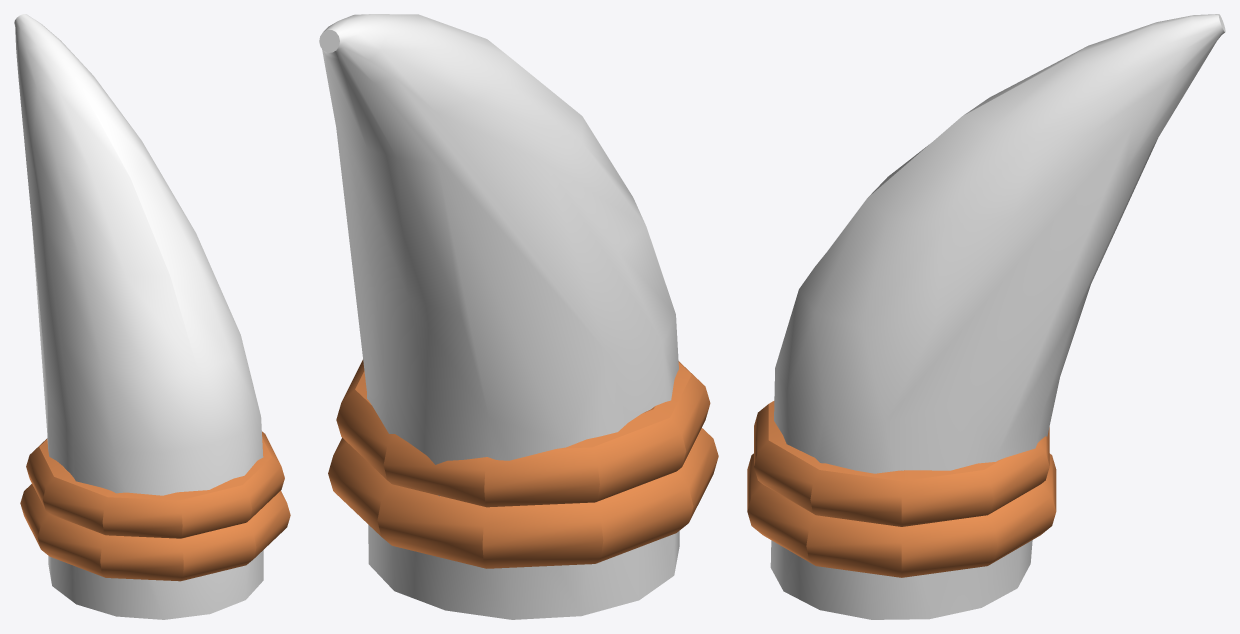
Rendered from Horn.fbx.
The picture shows the model from 3 angles, left to right: view 1: azimuth 30°, elevation 25°; view 2: azimuth 150°, elevation 25°; view 3: azimuth 270°, elevation 25°; orthographic projection. The views are drawn at different scales.
Parts seen in each view (by area): view 1: Horn; view 2: Horn; view 3: Horn.
Part boxes in pixels (bbox=[...]): Horn: bbox=[14, 14, 290, 619]; Horn: bbox=[319, 14, 718, 619]; Horn: bbox=[747, 14, 1225, 619].
Size of the model in its own units: 250 by 469 by 368.
